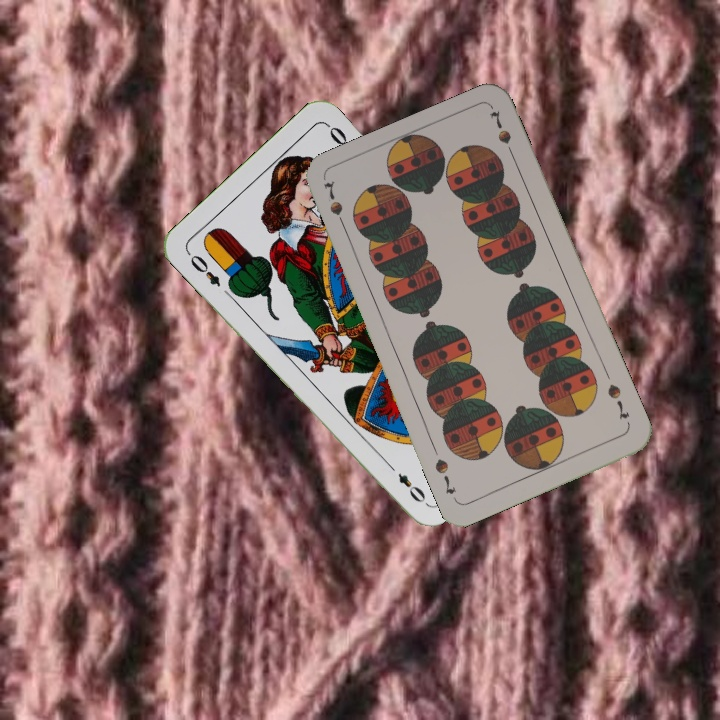EO: (186, 250, 224, 290)
S7: (319, 177, 350, 235), (603, 380, 633, 422)
